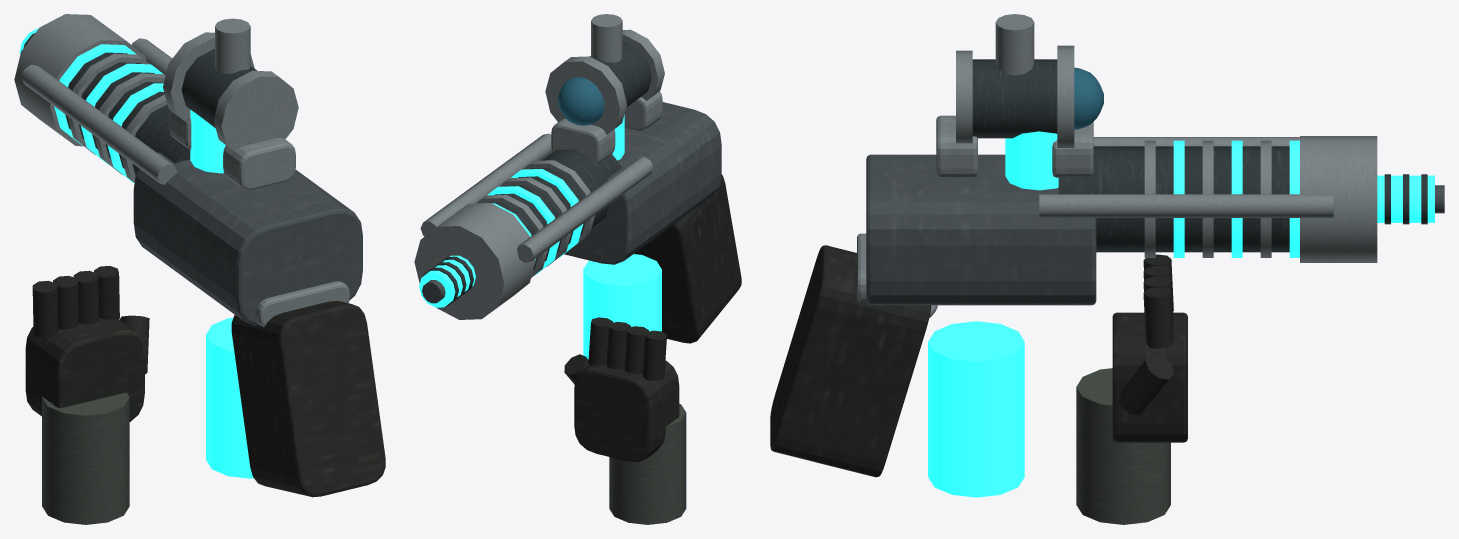
The model's file is raygun.glb.
The picture shows the model from 3 angles, left to right: view 1: azimuth 30°, elevation 25°; view 2: azimuth 150°, elevation 25°; view 3: azimuth 270°, elevation 25°; orthographic projection. The views are drawn at different scales.
Parts seen in each view (by area): view 1: first-person-raygun; view 2: first-person-raygun; view 3: first-person-raygun.
Boxes of the visible parts, bbox=[...] form: first-person-raygun: bbox=[14, 14, 385, 524]; first-person-raygun: bbox=[414, 14, 741, 524]; first-person-raygun: bbox=[770, 14, 1444, 524].
Size of the model in its own units: 0.514 by 1.22 by 1.4.
Materials: 7 (5 with a texture image).
